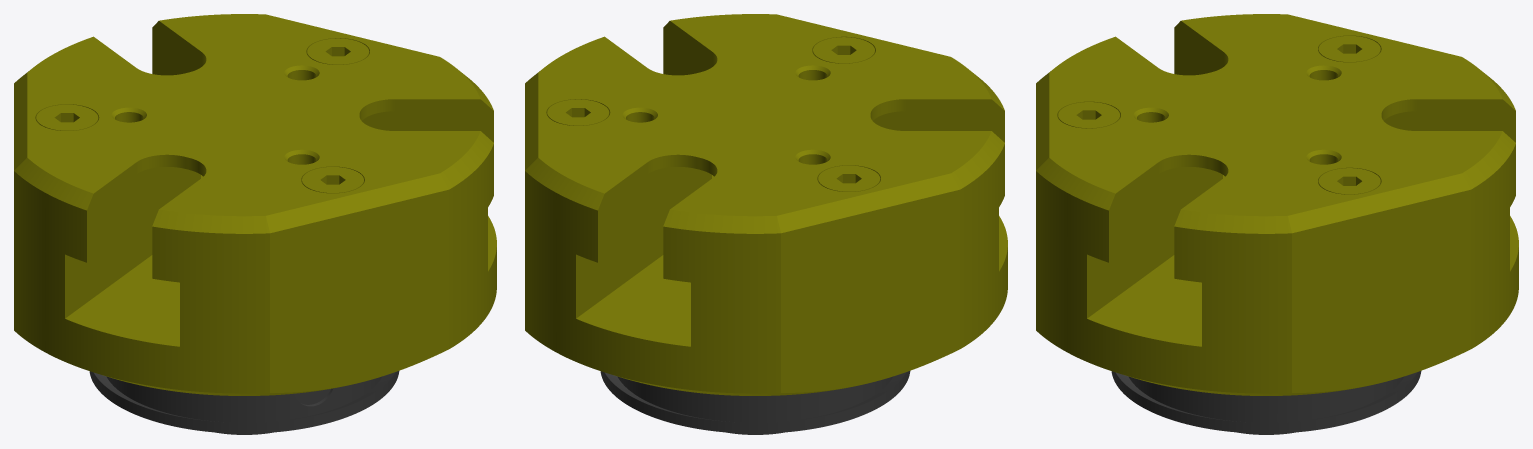
The model's file is rotating.obj.
3 views of the same model, side by side, from view 1: azimuth 30°, elevation 25°; view 2: azimuth 150°, elevation 25°; view 3: azimuth 270°, elevation 25° (orthographic).
Parts seen in each view (by area): view 1: Solid1:1, Solid1; view 2: Solid1:1, Solid1; view 3: Solid1:1, Solid1.
Boxes of the visible parts, x1,y1,x2,y2 form: Solid1:1: (14,14,496,395); Solid1: (89,371,399,434); Solid1:1: (525,14,1007,395); Solid1: (600,371,910,434); Solid1:1: (1036,14,1518,395); Solid1: (1111,371,1421,434).
Size of the model in its own units: 0.057 by 0.0357 by 0.0545.
